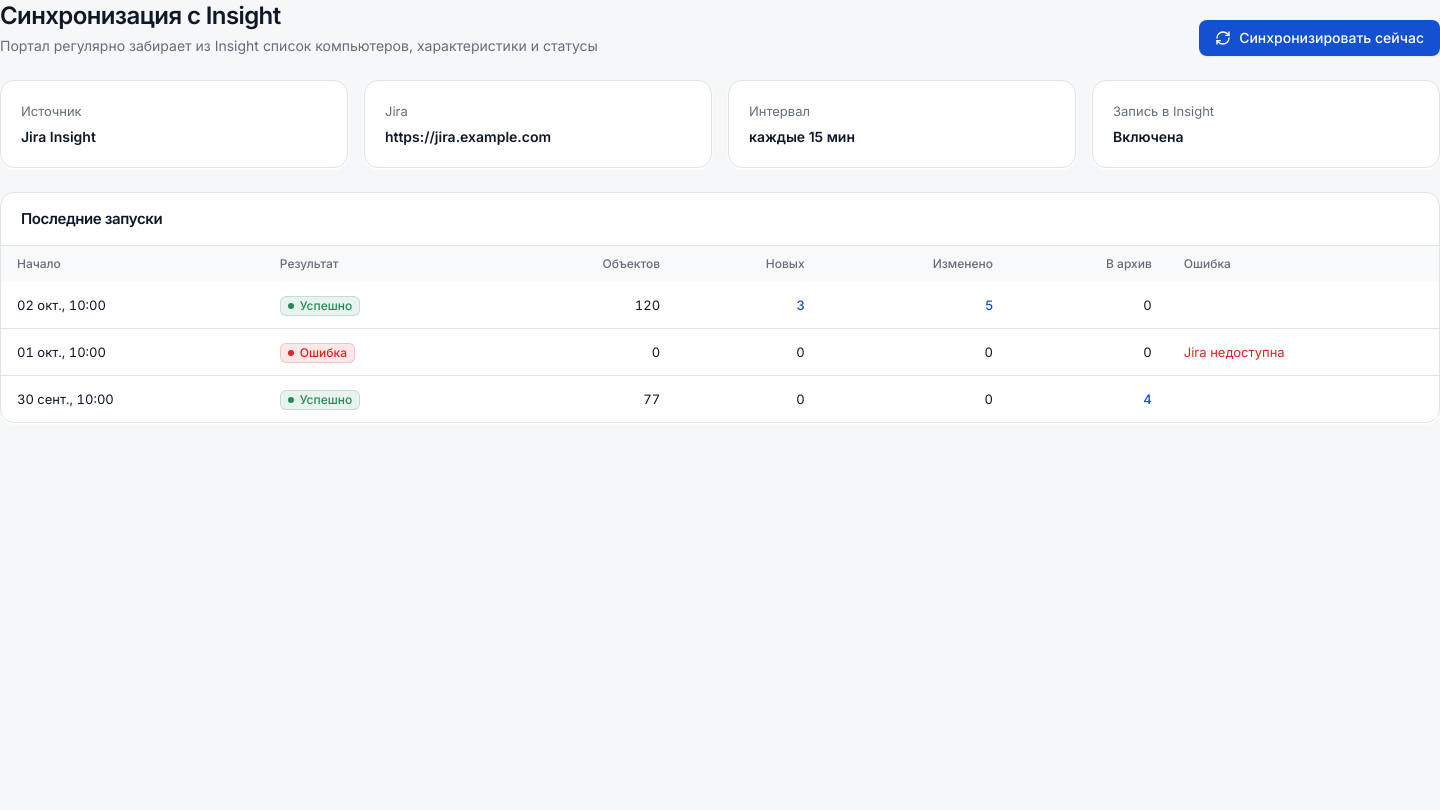
Test: SyncPage: детали запуска › клик по «Изменено» показывает «было → стало»
This screenshot has width=1440, height=810.
Click the button "5" at (989, 305), box [985, 295, 993, 315]
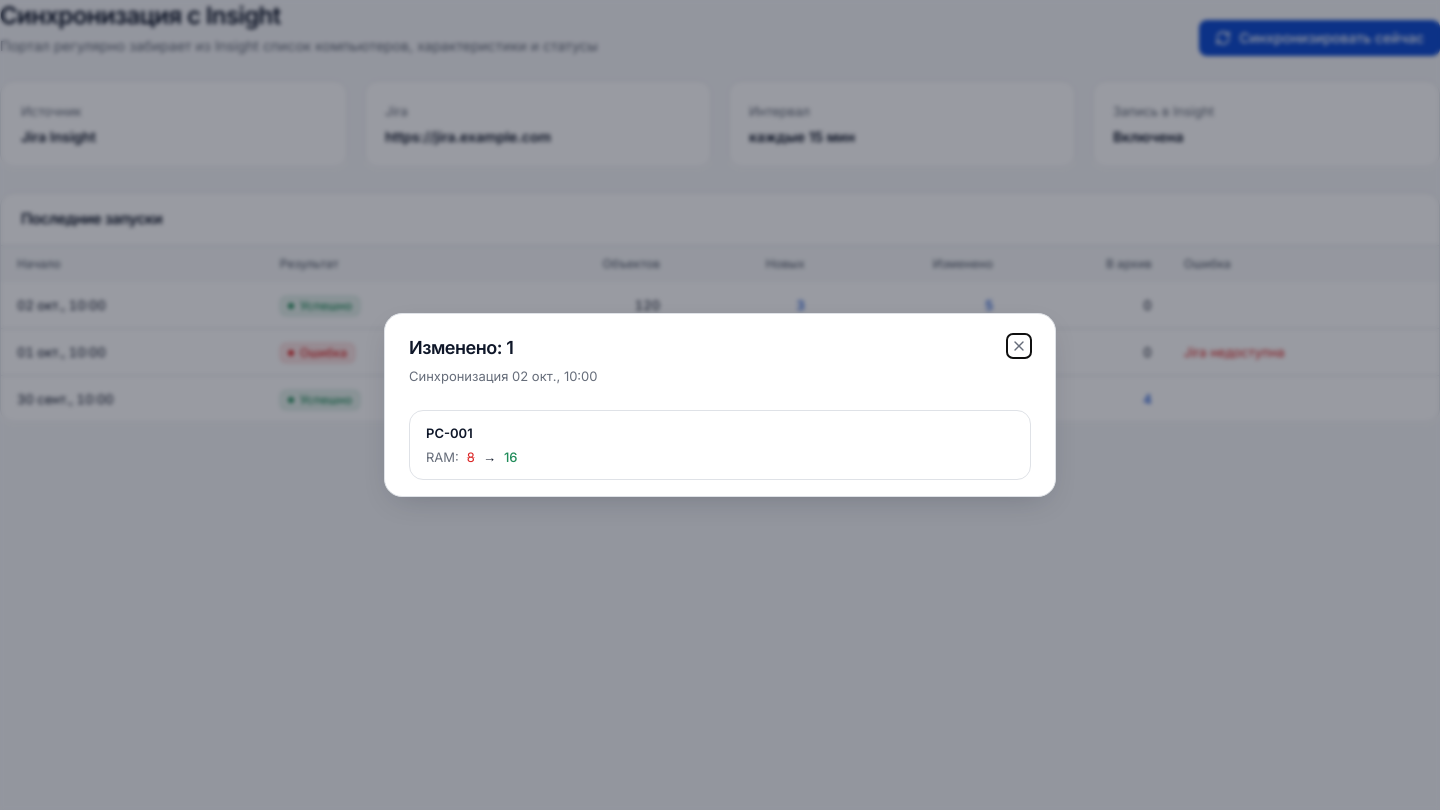
expect the text "PC-001" is shown: met, box [426, 425, 473, 441]
expect the heading "Изменено: 1" is shown: met, box [409, 337, 513, 358]
expect the list item reads "RAM: 8 → 16": met, box [426, 449, 518, 465]
